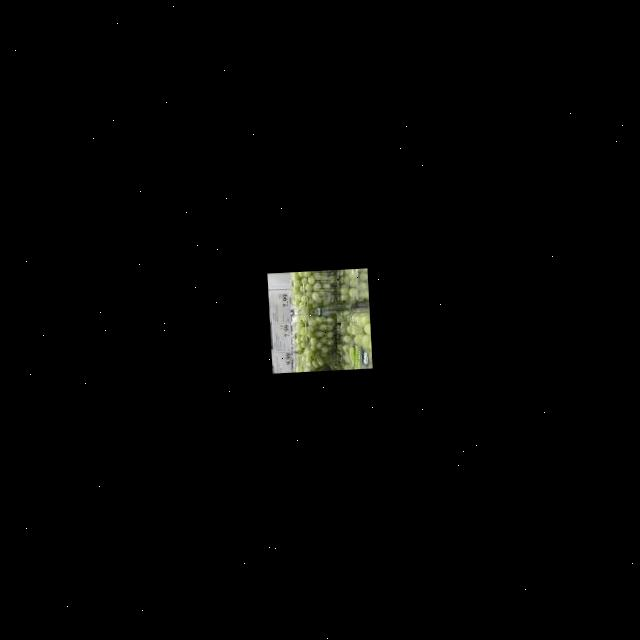grape: (288, 268, 372, 372)
